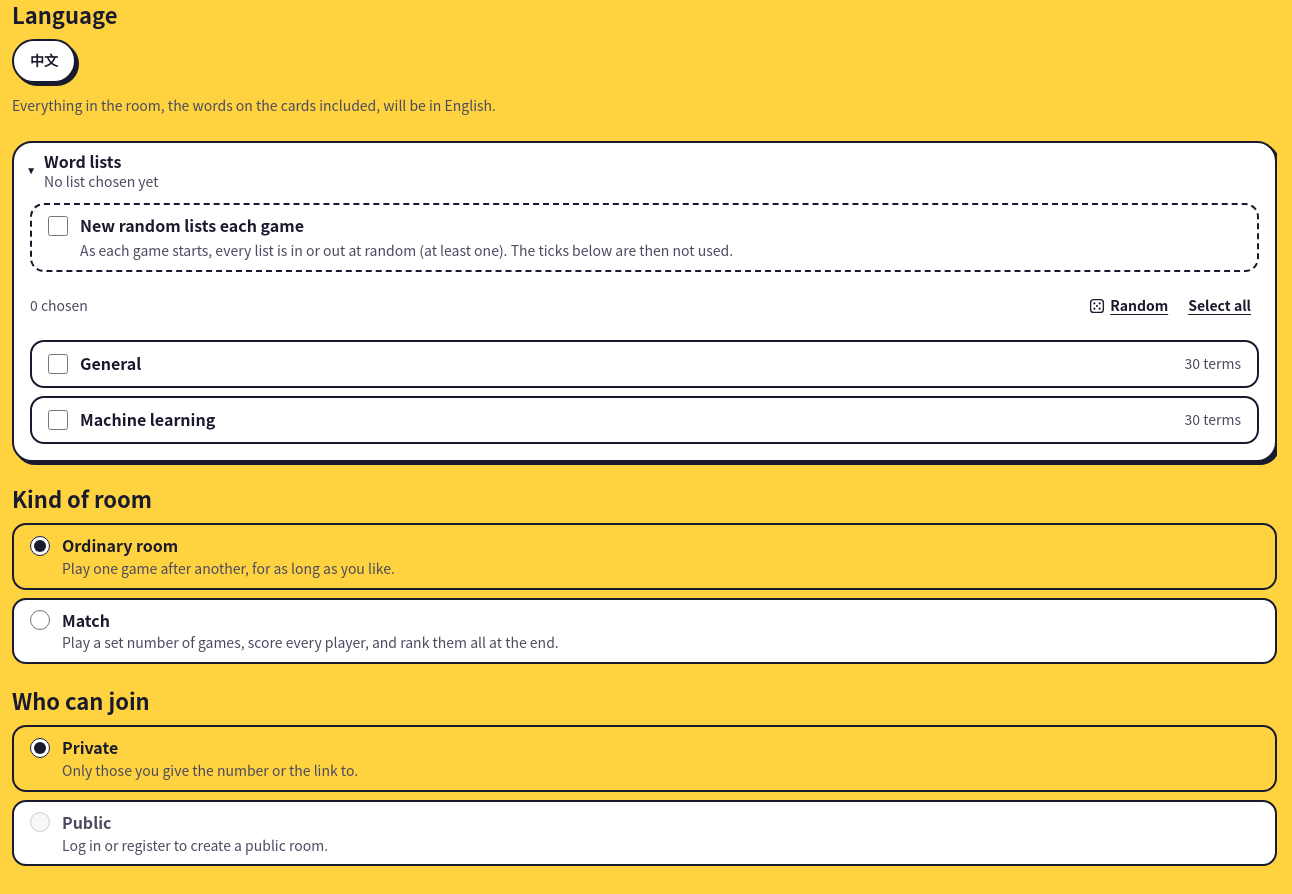
Test: the room setup › keeps only the lists that are still usable when the language changes, and adds none
Click the checkbox labelled "General 30 terms".
click(58, 364)  # box [48,354,68,374]
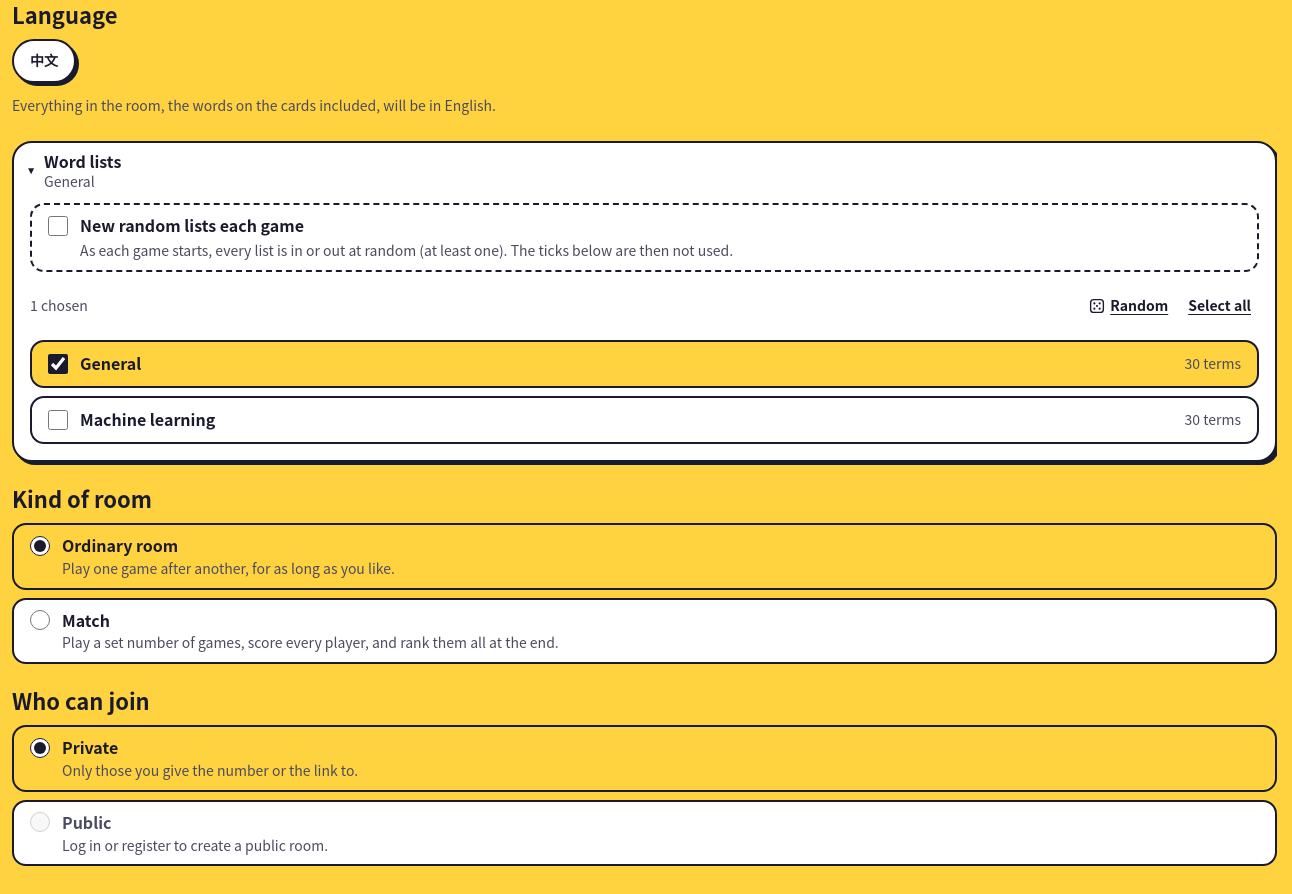
Click the checkbox labelled "Machine learning 30 terms".
click(58, 420)  # box [48,410,68,430]
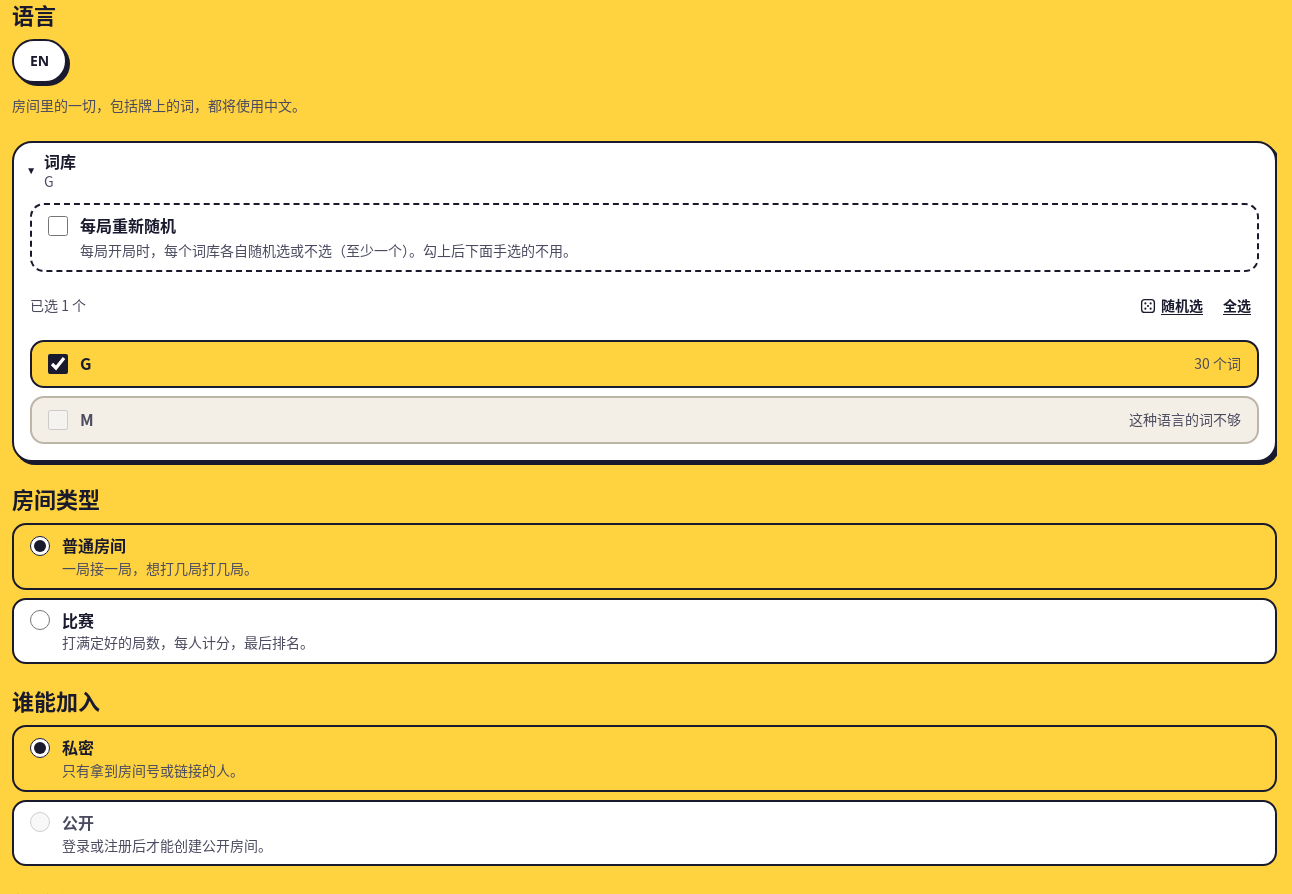
Now the checkbox labelled "G 30 个词" is checked
Click the checkbox labelled "G 30 个词".
click(58, 364)  # box [48,354,68,374]
(page scrolled)
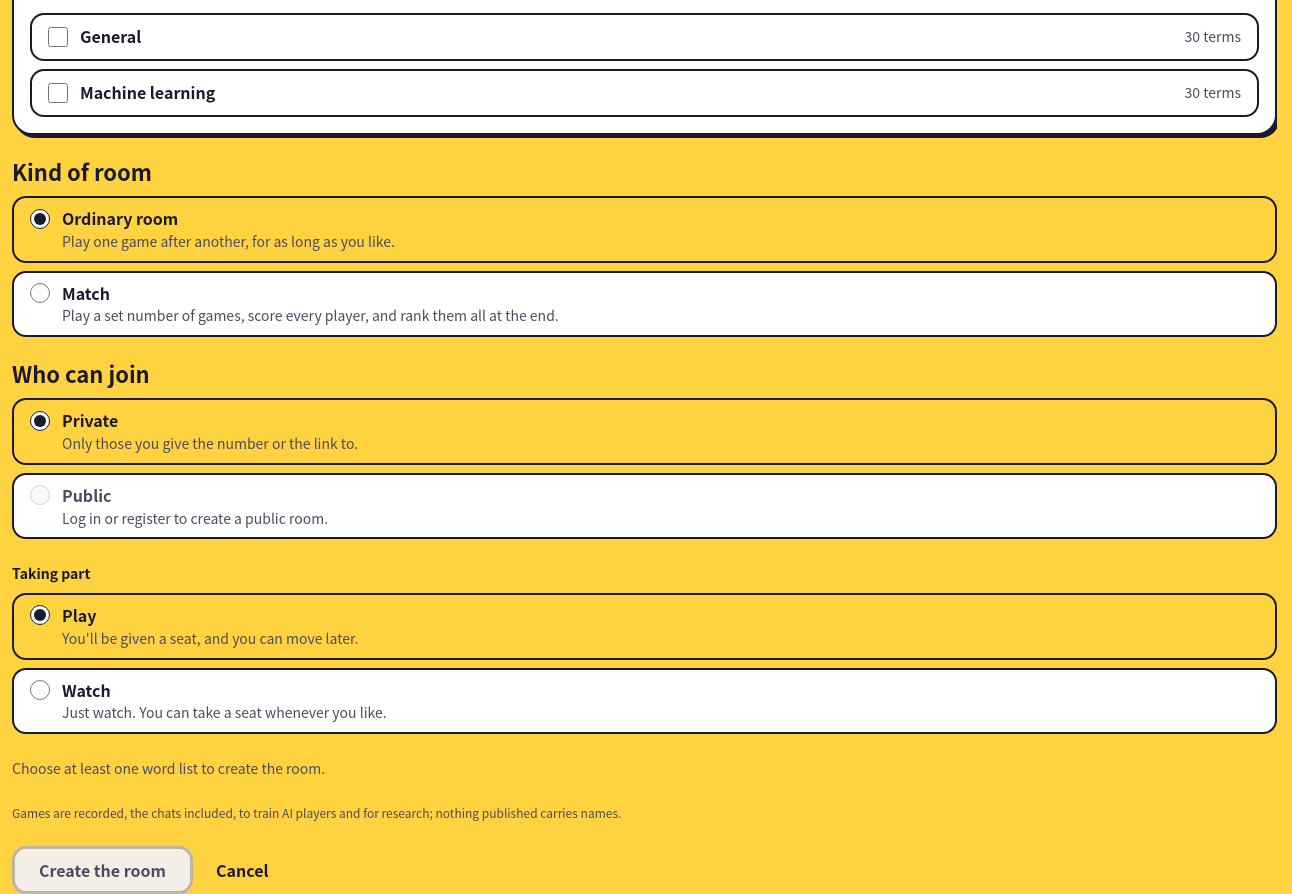
Expected: the checkbox labelled "Machine learning 30 terms" is not checked, [48,83,68,103]
Now the checkbox labelled "General 30 terms" is not checked, box [48,27,68,47]
Now the submit button is disabled, box [12,846,193,893]
